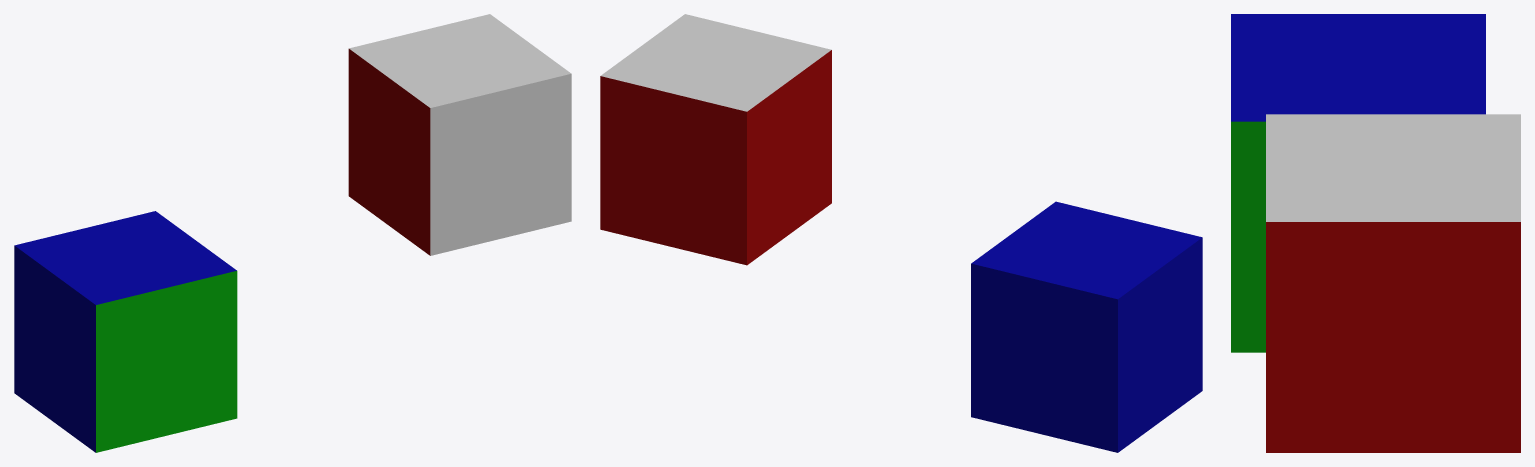
The model's file is cubos.obj.
The picture shows the model from 3 angles, left to right: view 1: azimuth 30°, elevation 25°; view 2: azimuth 150°, elevation 25°; view 3: azimuth 270°, elevation 25°; orthographic projection. The views are drawn at different scales.
Parts seen in each view (by area): view 1: CuboVermelhoBranco, CuboAzulVerde; view 2: CuboVermelhoBranco, CuboAzulVerde; view 3: CuboVermelhoBranco, CuboAzulVerde.
Part boxes in pixels (bbox=[...]): CuboVermelhoBranco: bbox=[348, 14, 571, 255]; CuboAzulVerde: bbox=[14, 211, 237, 452]; CuboVermelhoBranco: bbox=[600, 14, 831, 265]; CuboAzulVerde: bbox=[971, 201, 1202, 452]; CuboVermelhoBranco: bbox=[1266, 114, 1520, 452]; CuboAzulVerde: bbox=[1231, 14, 1485, 352].
Bounding box in the file's own units: 6.89 × 3.41 × 2.28.
